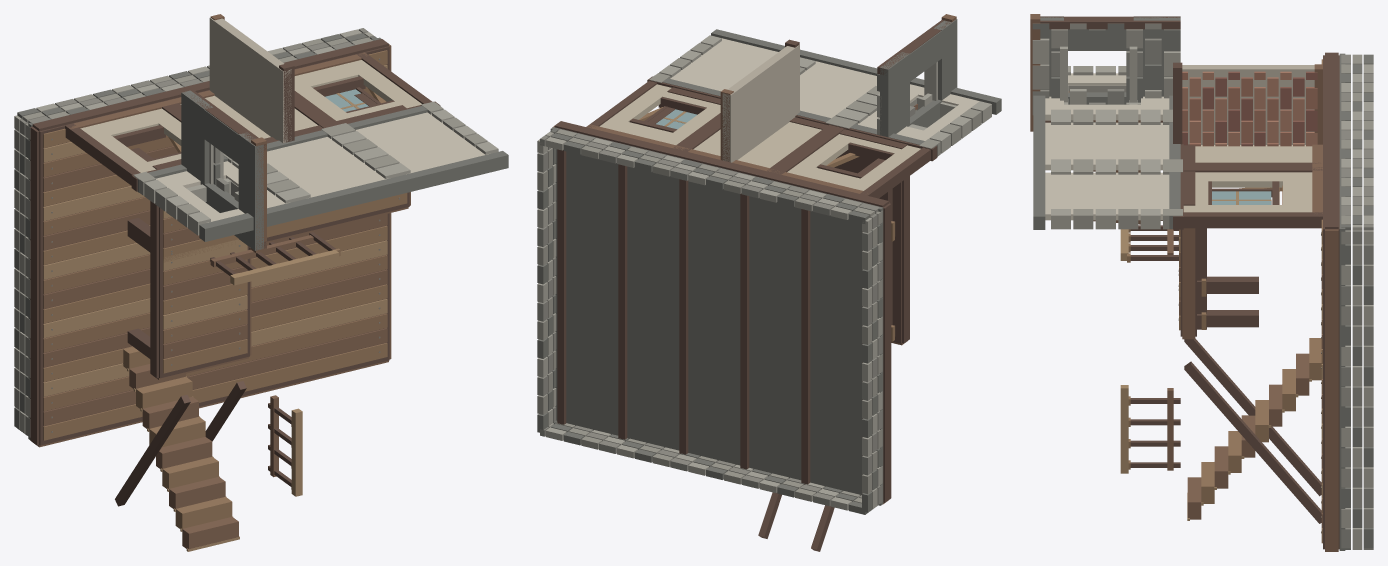
File: architectural_mezzanine_sample_no_furniture.glb
The picture shows the model from 3 angles, left to right: view 1: azimuth 30°, elevation 25°; view 2: azimuth 150°, elevation 25°; view 3: azimuth 270°, elevation 25°; orthographic projection. The views are drawn at different scales.
Parts seen in each view (by area): view 1: lower_000, right_lower_brick_000, lower_004, lower_001, upper_back_2_000, upper_back_1_000, lower_019, lower_007, lower_016, lower_010, lower_013, lower_066 (+65 smaller); view 2: lower_284, right_lower_brick_000, upper_back_1_000, upper_back_2_000, lower_067, lower_071, lower_070, lower_072, lower_069, lower_073, lower_066, back_wall_1_000 (+23 smaller); view 3: upper_back_1_000, upper_back_2_000, lower_065, right_lower_brick_000, lower_067, back_wall_2_007, staircase_031, back_wall_1_000, lower_000, staircase_030, lower_284, back_wall_2_000 (+45 smaller).
Boxes of the visible parts, box(x1,y1,x2,y2) form: lower_000: box(39, 46, 389, 445); right_lower_brick_000: box(209, 17, 291, 143); lower_004: box(43, 328, 387, 425); lower_001: box(43, 343, 387, 440); upper_back_2_000: box(356, 112, 488, 174); upper_back_1_000: box(267, 137, 388, 198); lower_019: box(43, 255, 387, 352); lower_007: box(43, 313, 387, 411); lower_016: box(43, 269, 387, 367); lower_010: box(43, 299, 387, 396); lower_013: box(43, 284, 387, 381); lower_066: box(30, 126, 39, 445); lower_284: box(550, 127, 883, 505); right_lower_brick_000: box(722, 44, 799, 162); upper_back_1_000: box(800, 61, 876, 118); upper_back_2_000: box(670, 38, 778, 91); lower_067: box(554, 121, 888, 207); lower_071: box(679, 179, 688, 454); lower_070: box(740, 193, 749, 469); lower_072: box(618, 164, 627, 439); lower_069: box(801, 209, 810, 484); lower_073: box(557, 149, 566, 424); lower_066: box(883, 203, 891, 502); back_wall_1_000: box(693, 122, 821, 167); upper_back_1_000: box(1045, 122, 1169, 170); upper_back_2_000: box(1045, 172, 1169, 220); lower_065: box(1325, 229, 1338, 550); right_lower_brick_000: box(1182, 65, 1314, 144); lower_067: box(1325, 52, 1338, 229); back_wall_2_007: box(1183, 212, 1322, 228); staircase_031: box(1184, 361, 1321, 523); back_wall_1_000: box(1195, 145, 1312, 162); lower_000: box(1323, 55, 1339, 549); staircase_030: box(1184, 338, 1321, 496); lower_284: box(1339, 53, 1345, 550); back_wall_2_000: box(1195, 172, 1312, 187).
Bounding box in the file's own units: 7.09 × 8.95 × 5.83.
